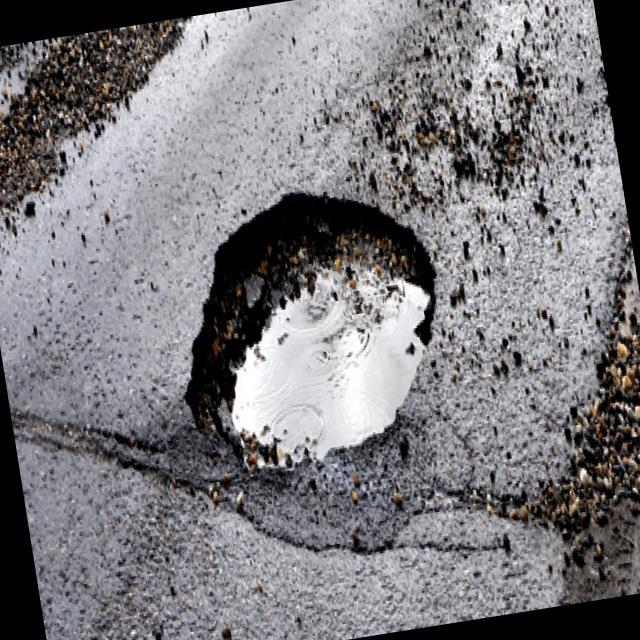Pothole: (154, 162, 462, 486)
